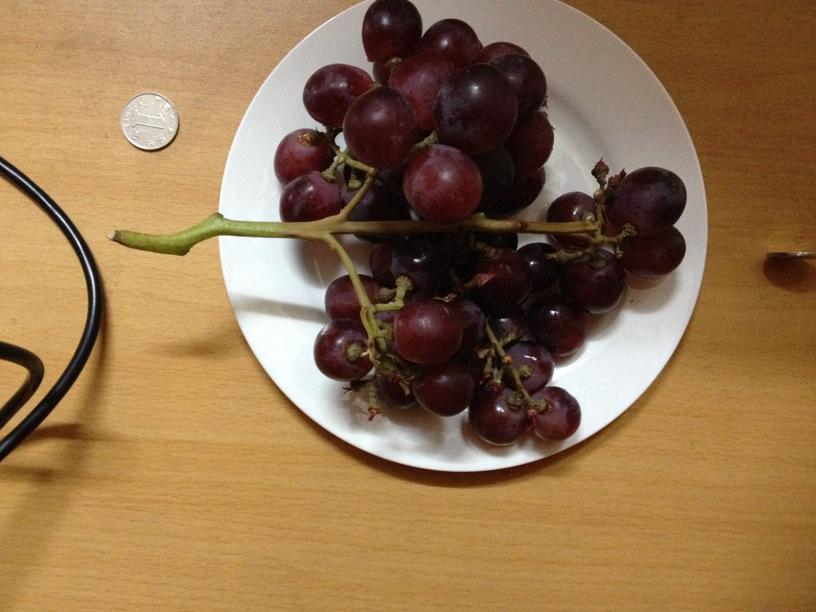coin: (119, 90, 177, 152)
grape: (262, 4, 686, 446)
